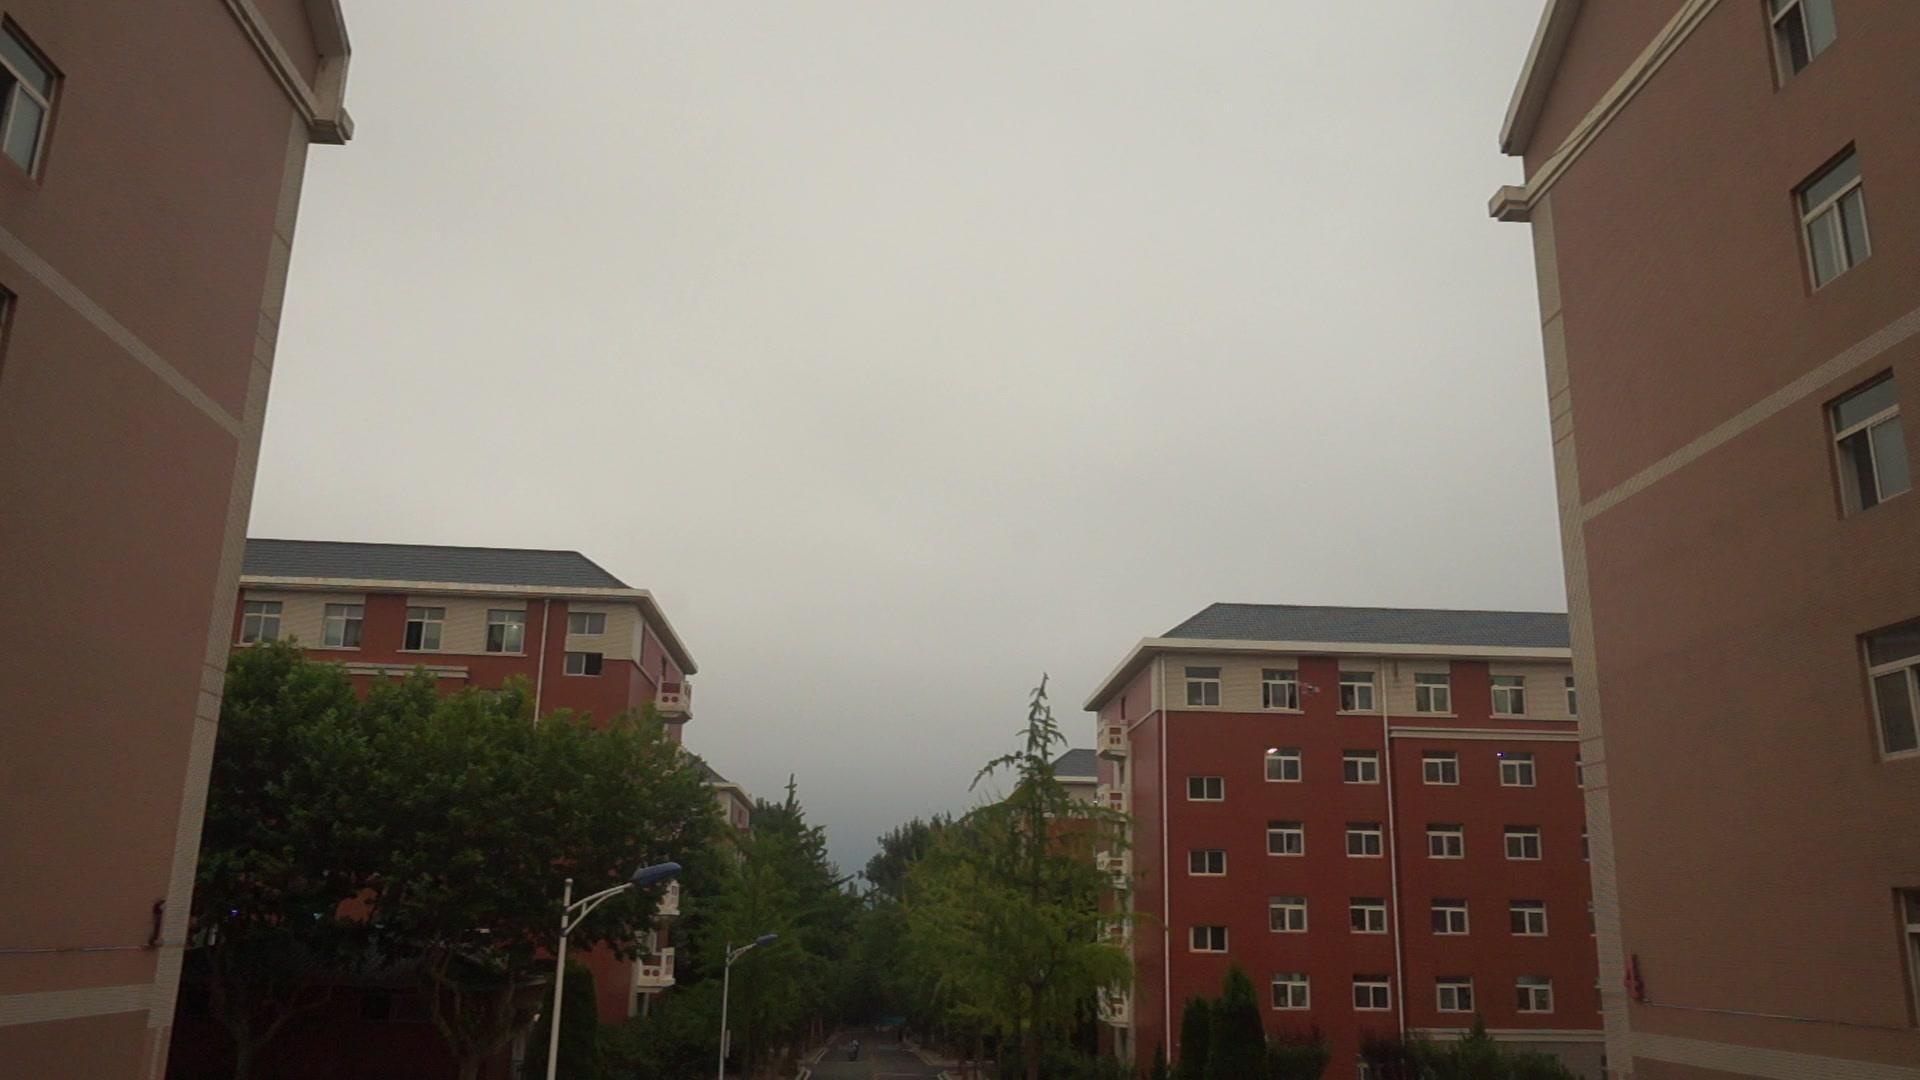UAV: (1298, 680, 1321, 698)
